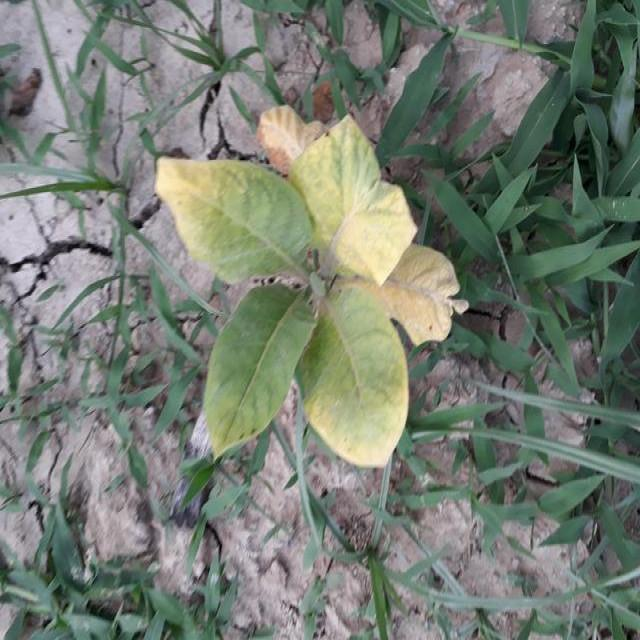crop: (156, 126, 462, 466)
